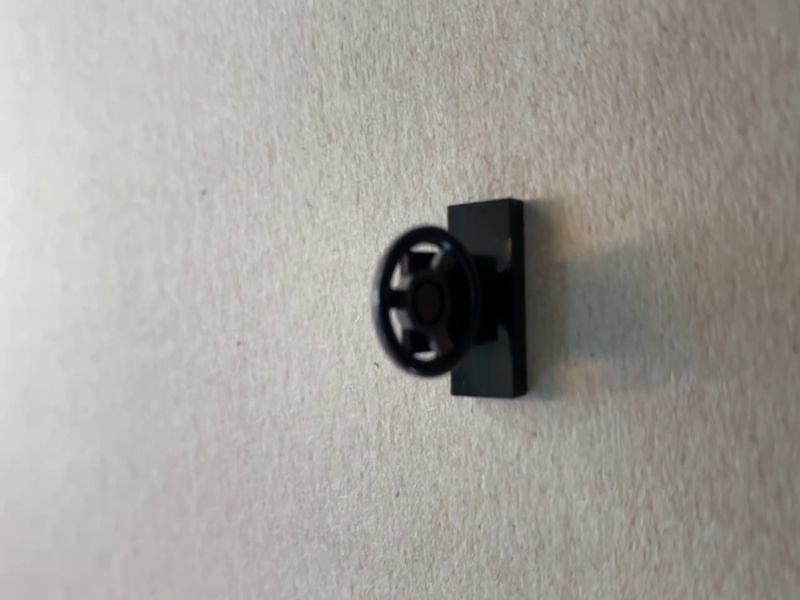steering wheel: (371, 197, 529, 402)
